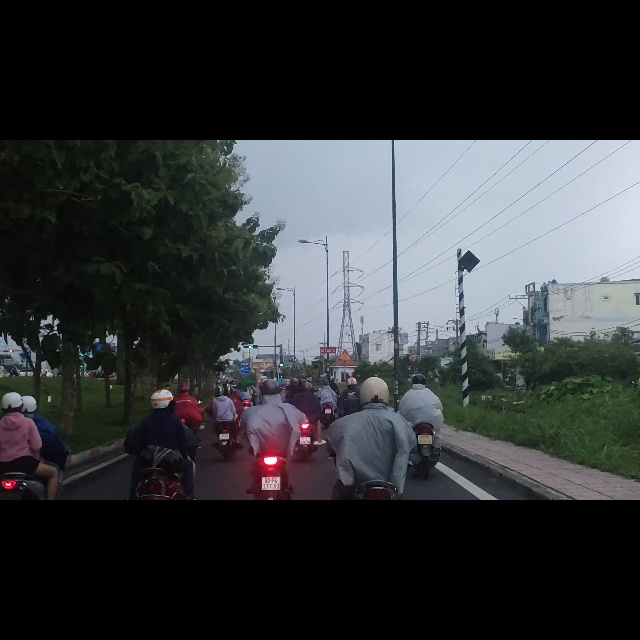bien_chi_dan: (339, 372, 352, 392)
